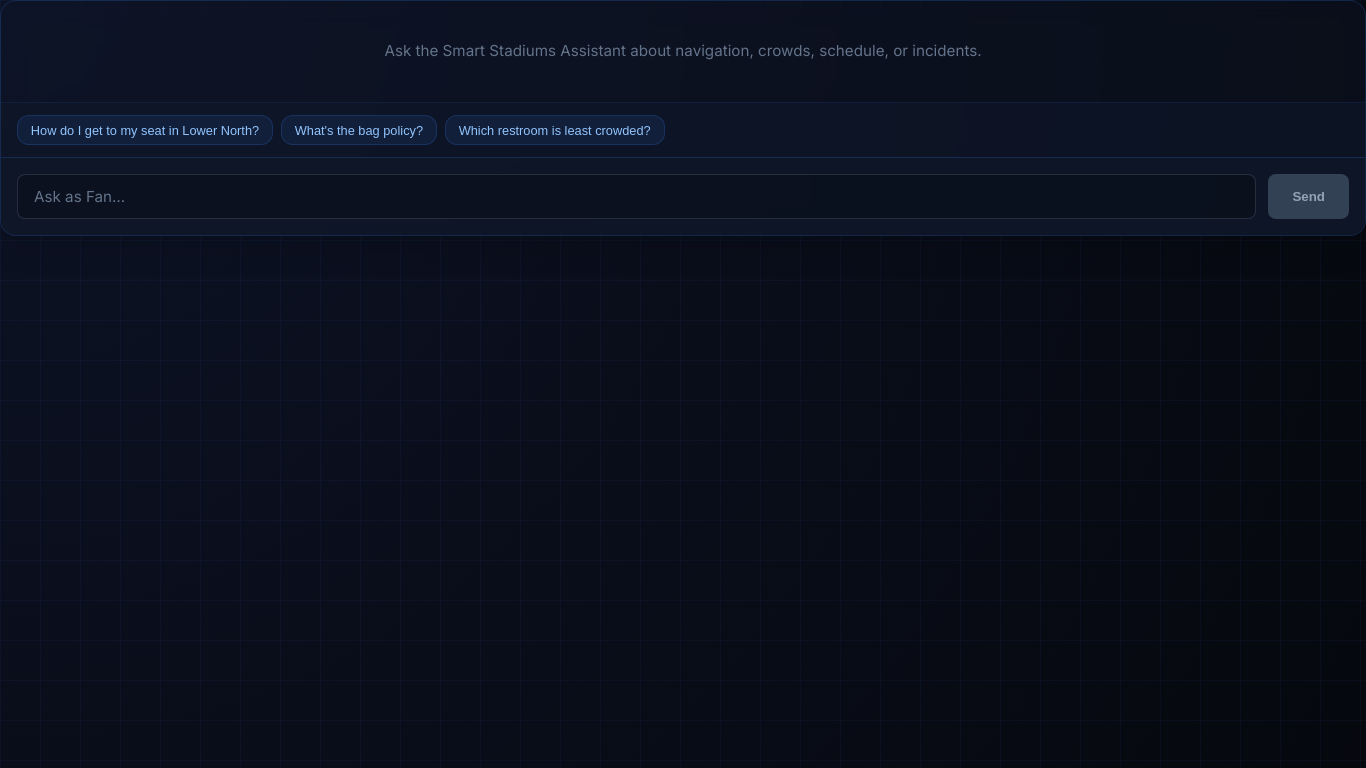
Scenario: ignores concurrent submissions while a request is in flight
The width and height of the screenshot is (1366, 768).
// Type and click send the first time
In the field with placeholder "Ask as Fan…": (637, 196) [17, 174, 1256, 219], type "Hello first"
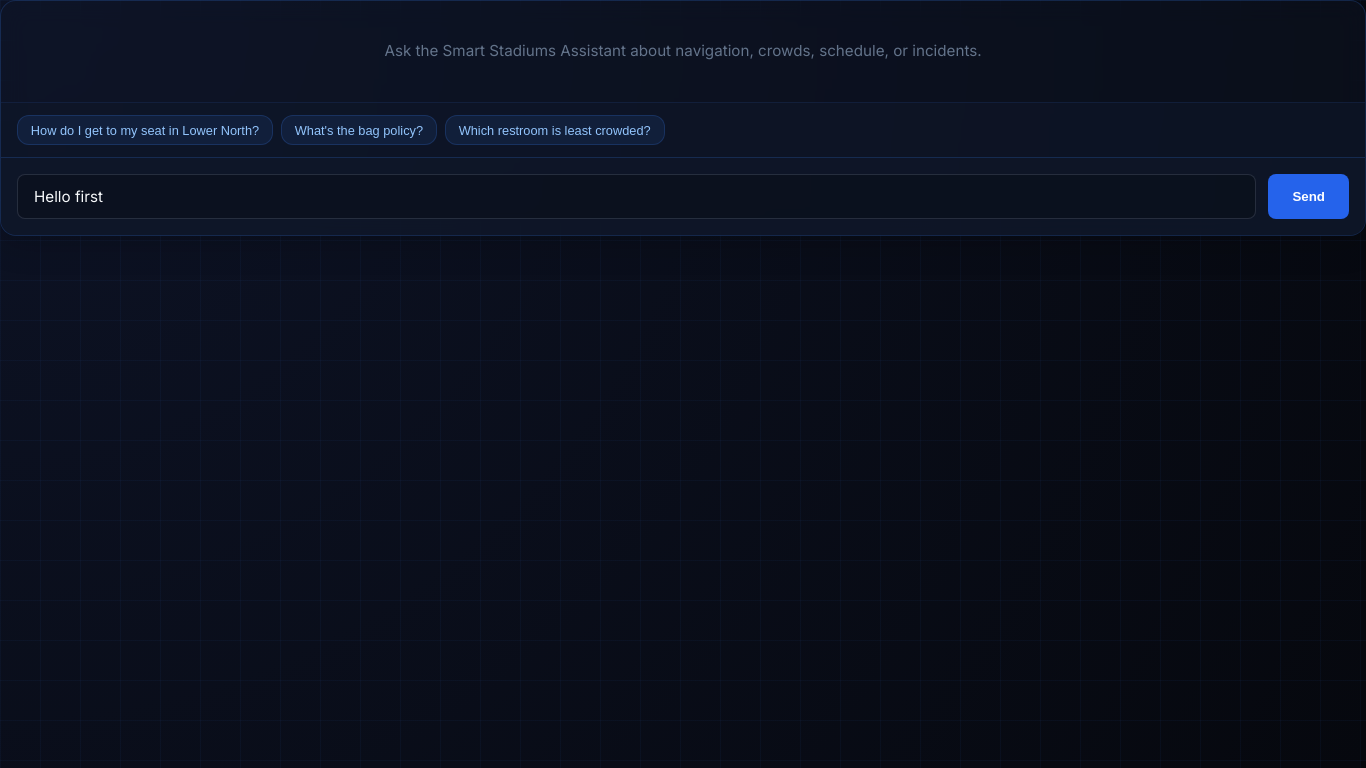
Click the button "Send": (1309, 196) [1268, 174, 1349, 219]
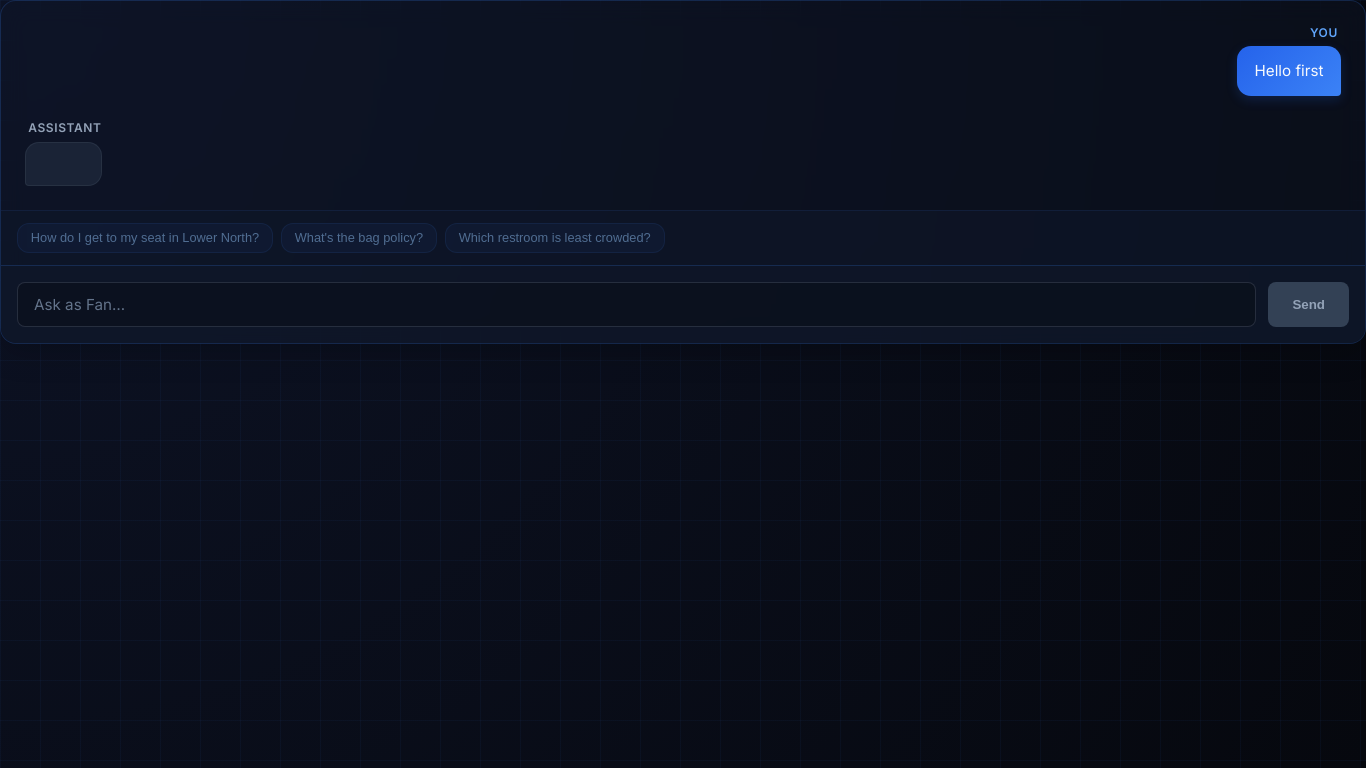
// Attempt to type and click send again immediately while busy is true
In the field with placeholder "Ask as Fan…": (637, 304) [17, 282, 1256, 326], type "Hello second"
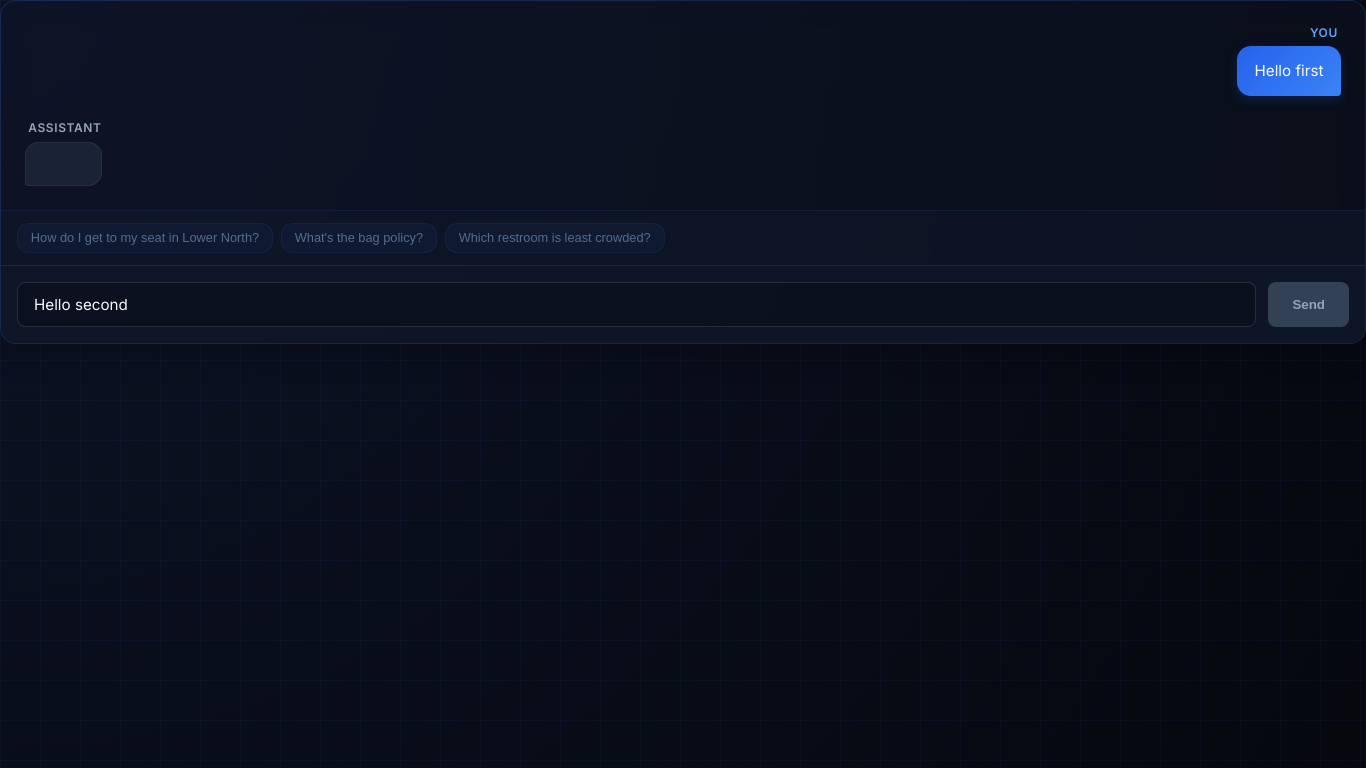
Click the button "Send": (1309, 304) [1268, 282, 1349, 326]
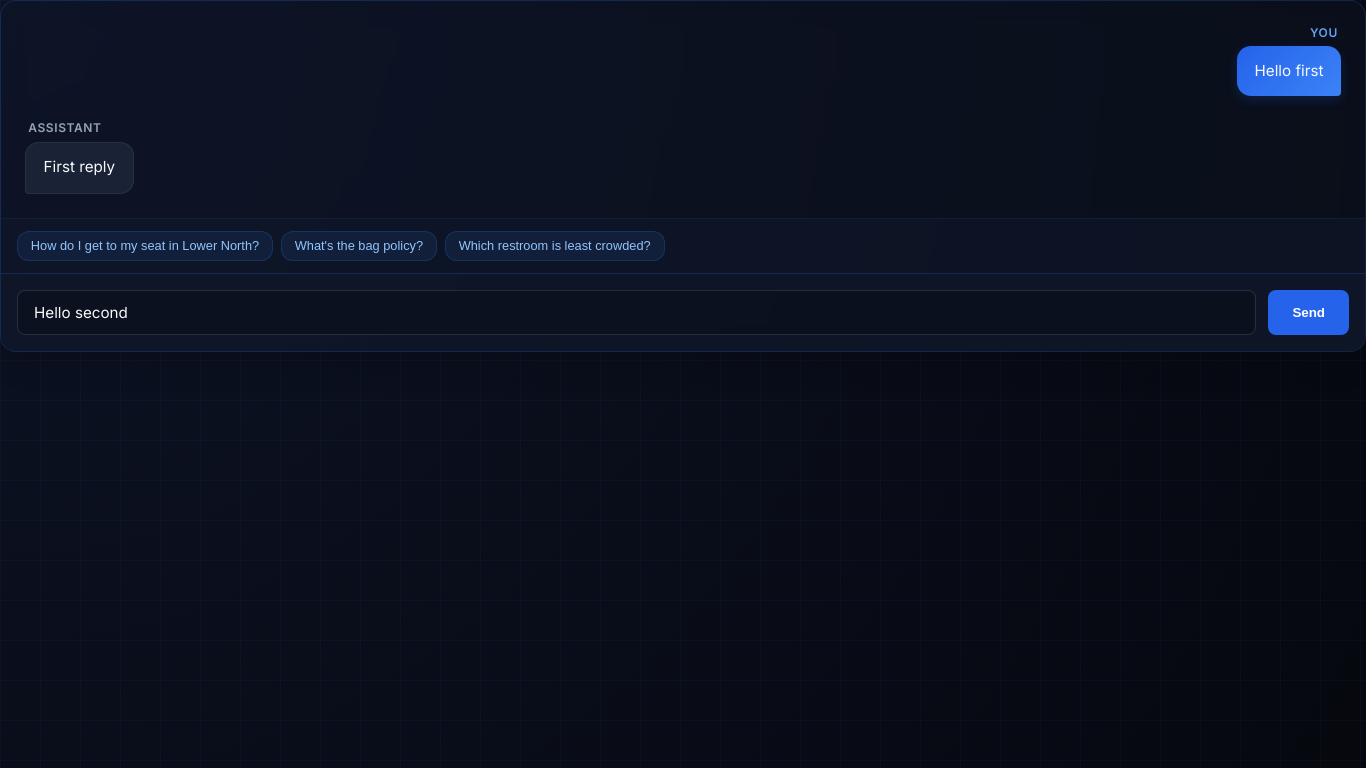
Now the text "First reply" is shown, box [25, 142, 134, 194]
